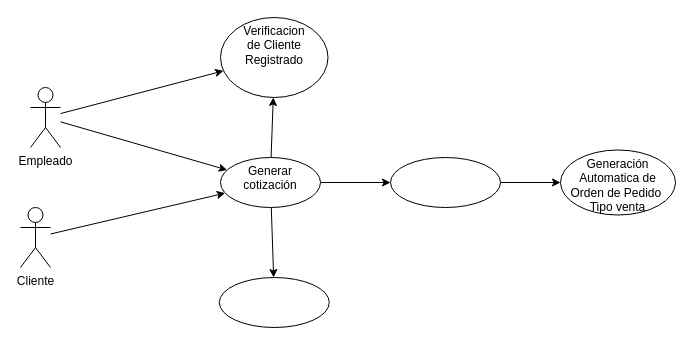
Image size: 693x345. Some labels were removed from this diagram. The shapes that lost their labels are listed below. From the top down, each one's box as (x1, y1, x2, y2) in pixels, then its label:
(390, 156, 500, 208): Aprobación de Cotización
(218, 276, 329, 328): Anulación Cotización
